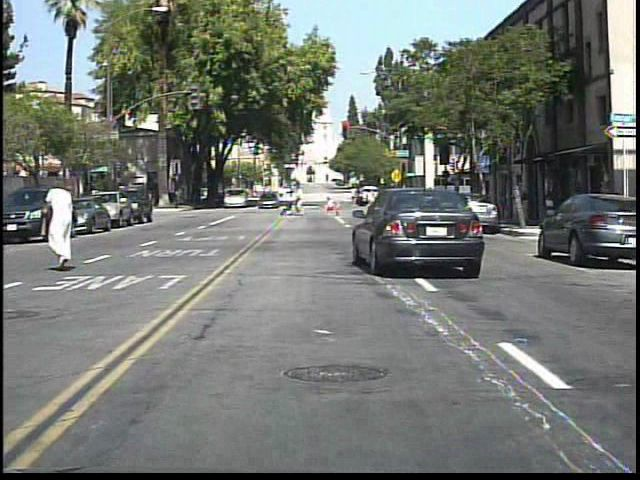person: (41, 180, 84, 273), (511, 176, 535, 228), (293, 183, 309, 220)
